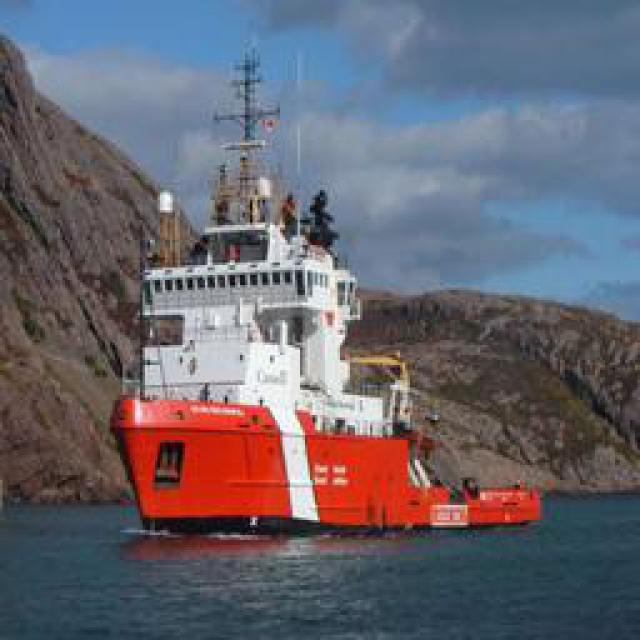Ship: (116, 147, 571, 535)
